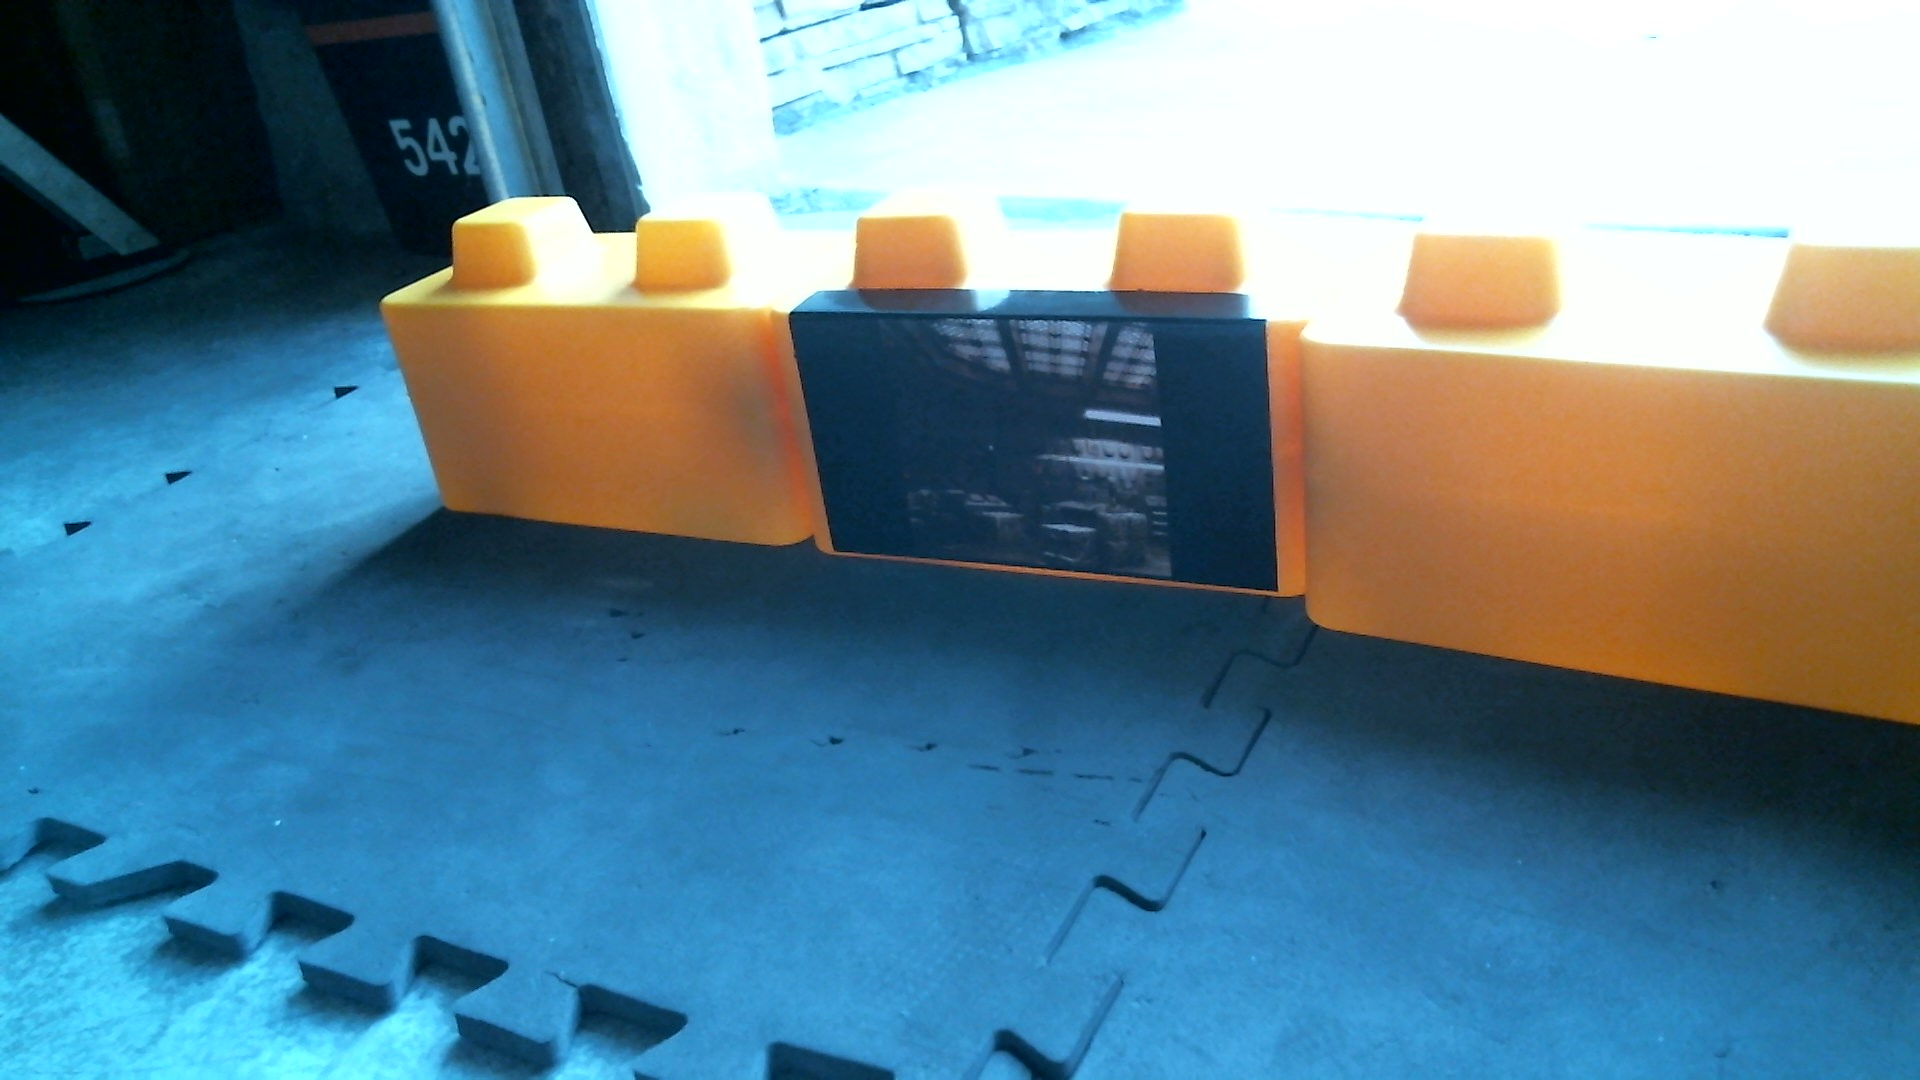center: (376, 174, 1920, 748)
